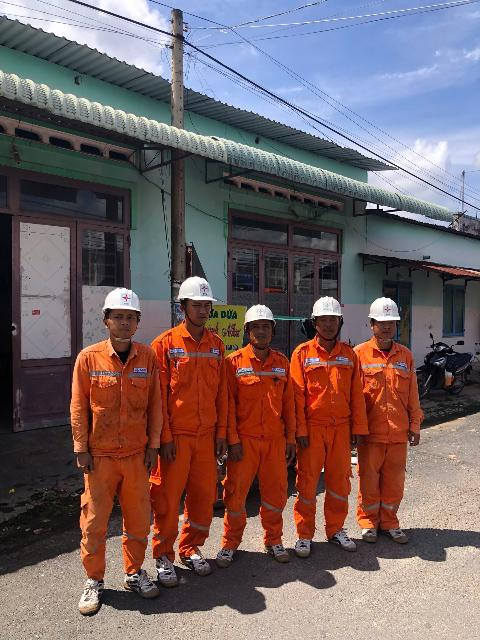helmet: (296, 287, 350, 324), (94, 285, 152, 318), (174, 273, 226, 307), (369, 292, 412, 329), (242, 295, 282, 327)
shoes: (181, 540, 228, 588), (76, 573, 114, 619), (127, 569, 174, 603), (263, 534, 300, 573), (329, 520, 362, 562), (218, 534, 250, 577), (157, 556, 193, 591), (292, 521, 321, 562), (385, 517, 411, 552), (361, 514, 384, 552)
